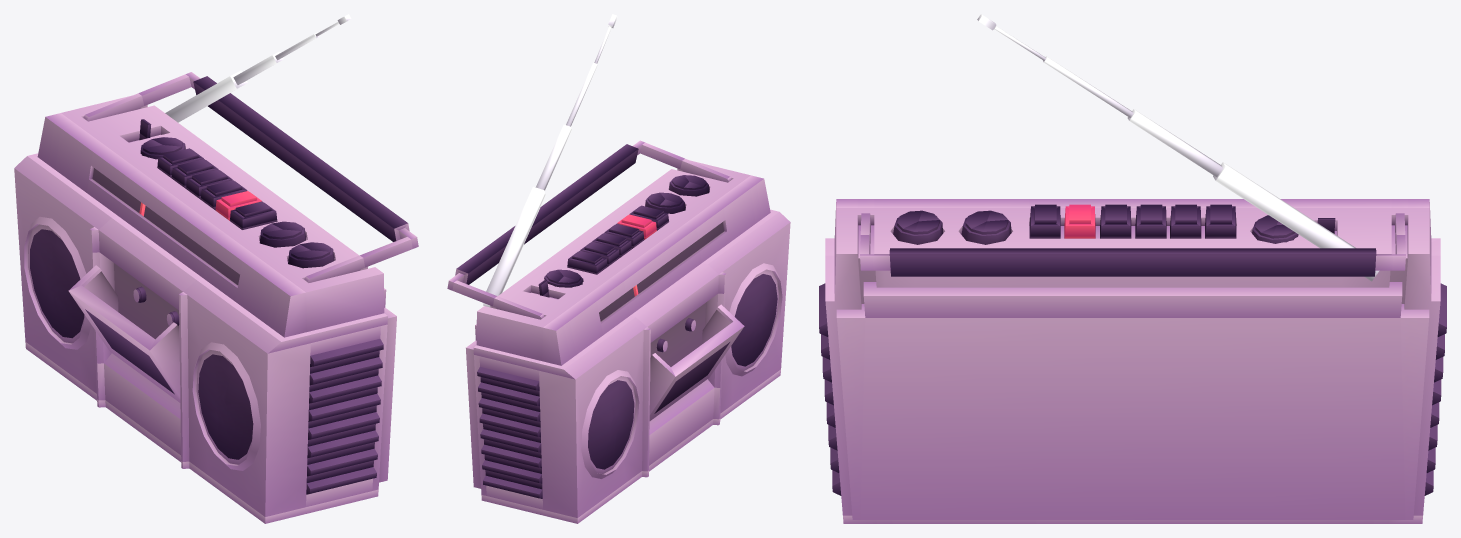
Rendered from boombox.glb.
The picture shows the model from 3 angles, left to right: view 1: azimuth 30°, elevation 25°; view 2: azimuth 150°, elevation 25°; view 3: azimuth 270°, elevation 25°; orthographic projection. The views are drawn at different scales.
Visible parts, largest first — view 1: Cube1_sep52, Cube1_sep50, Cube1_extract54, Cube1_sep17, Cube1_sep51, Cube1_sep42, Cube1_sep43, Cube1_sep49, Cube1_copy20, Cube1_sep45, Cube1_sep48, Cube1_sep47 (+2 smaller); view 2: Cube1_sep52, Cube1_sep50, Cube1_extract54, Cube1_sep17, Cube1_sep51, Cube1_sep43, Cube1_sep47, Cube1_sep42, Cube1_copy20, Cube1_sep46, Cube1_sep45, Cube1_sep44 (+2 smaller); view 3: Cube1_sep51, Cube1_sep52, Cube1_sep50, Cube1_sep17, Cube1_sep42, Cube1_sep43, Cube1_sep48, Cube1_sep49, Cube1_sep46, Cube1_sep45, Cube1_sep44, Cube1_sep47 (+1 smaller).
Part boxes in pixels (bbox=[...]): Cube1_sep52: bbox=[14, 95, 387, 523]; Cube1_sep50: bbox=[83, 72, 418, 282]; Cube1_extract54: bbox=[68, 265, 180, 402]; Cube1_sep17: bbox=[165, 14, 351, 122]; Cube1_sep51: bbox=[379, 288, 396, 482]; Cube1_sep42: bbox=[259, 221, 306, 247]; Cube1_sep43: bbox=[288, 242, 334, 268]; Cube1_sep49: bbox=[230, 201, 277, 229]; Cube1_copy20: bbox=[140, 137, 185, 159]; Cube1_sep45: bbox=[200, 180, 247, 210]; Cube1_sep48: bbox=[186, 169, 232, 199]; Cube1_sep47: bbox=[157, 148, 203, 177]; Cube1_sep52: bbox=[473, 160, 790, 523]; Cube1_sep50: bbox=[447, 140, 731, 319]; Cube1_extract54: bbox=[649, 304, 744, 420]; Cube1_sep17: bbox=[483, 14, 617, 307]; Cube1_sep51: bbox=[466, 324, 480, 488]; Cube1_sep43: bbox=[669, 175, 709, 196]; Cube1_sep47: bbox=[567, 250, 607, 274]; Cube1_sep42: bbox=[645, 192, 685, 213]; Cube1_copy20: bbox=[544, 269, 583, 287]; Cube1_sep46: bbox=[617, 214, 656, 239]; Cube1_sep45: bbox=[604, 223, 644, 248]; Cube1_sep44: bbox=[580, 241, 619, 266]; Cube1_sep51: bbox=[836, 282, 1429, 519]; Cube1_sep52: bbox=[819, 199, 1446, 523]; Cube1_sep50: bbox=[860, 213, 1405, 276]; Cube1_sep17: bbox=[977, 14, 1379, 281]; Cube1_sep42: bbox=[961, 210, 1011, 244]; Cube1_sep43: bbox=[893, 210, 942, 244]; Cube1_sep48: bbox=[1135, 204, 1166, 238]; Cube1_sep49: bbox=[1029, 204, 1060, 238]; Cube1_sep46: bbox=[1064, 204, 1095, 238]; Cube1_sep45: bbox=[1100, 204, 1131, 238]; Cube1_sep44: bbox=[1170, 204, 1201, 238]; Cube1_sep47: bbox=[1205, 204, 1236, 238].
Bounding box in the file's own units: 2.51 × 5.15 × 5.59.
Materials: 1 (1 with a texture image).
